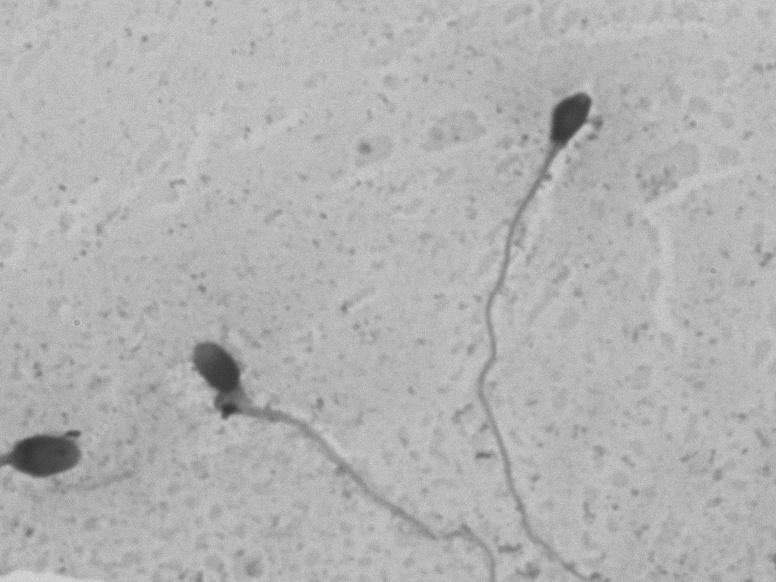Abnormal: (460, 72, 630, 495), (162, 301, 396, 545)
